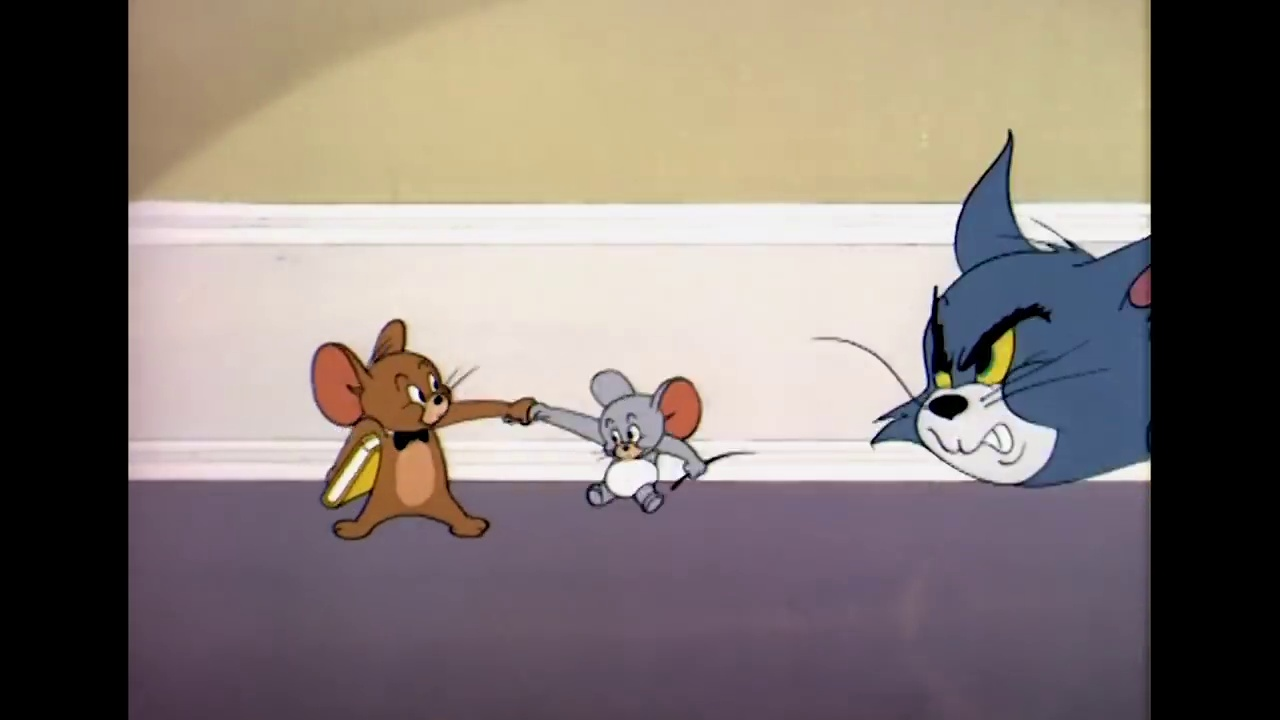tom: (871, 131, 1146, 486)
